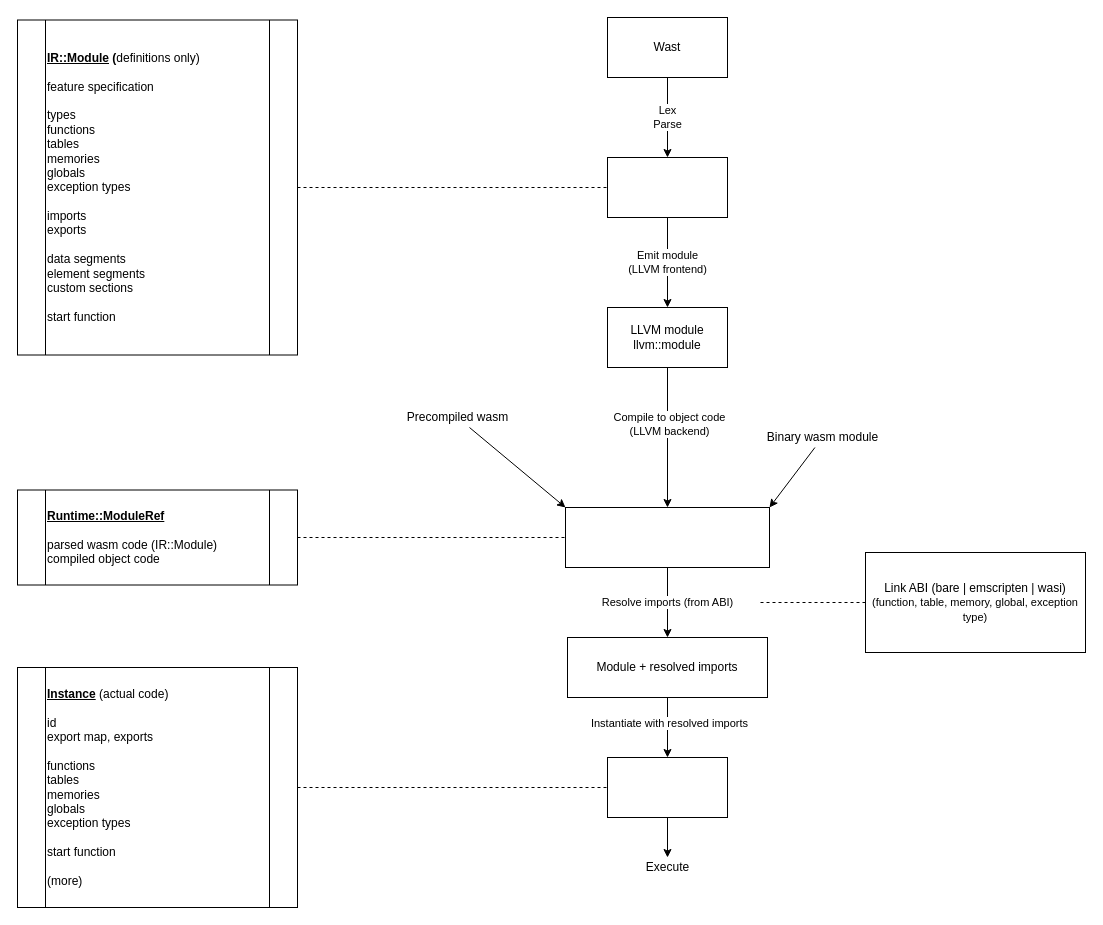
This 1103x925 diagram has some shape labels left out. The shapes that lost their labels are listed below. From the top down, each one's box as (x1, y1, x2, y2) in pixels, then its label:
(606, 156, 728, 218): Parsed wasm IR::Module
(564, 506, 770, 568): Compiled WebAssembly Module Runtime::ModuleRef
(606, 756, 728, 818): Instance
